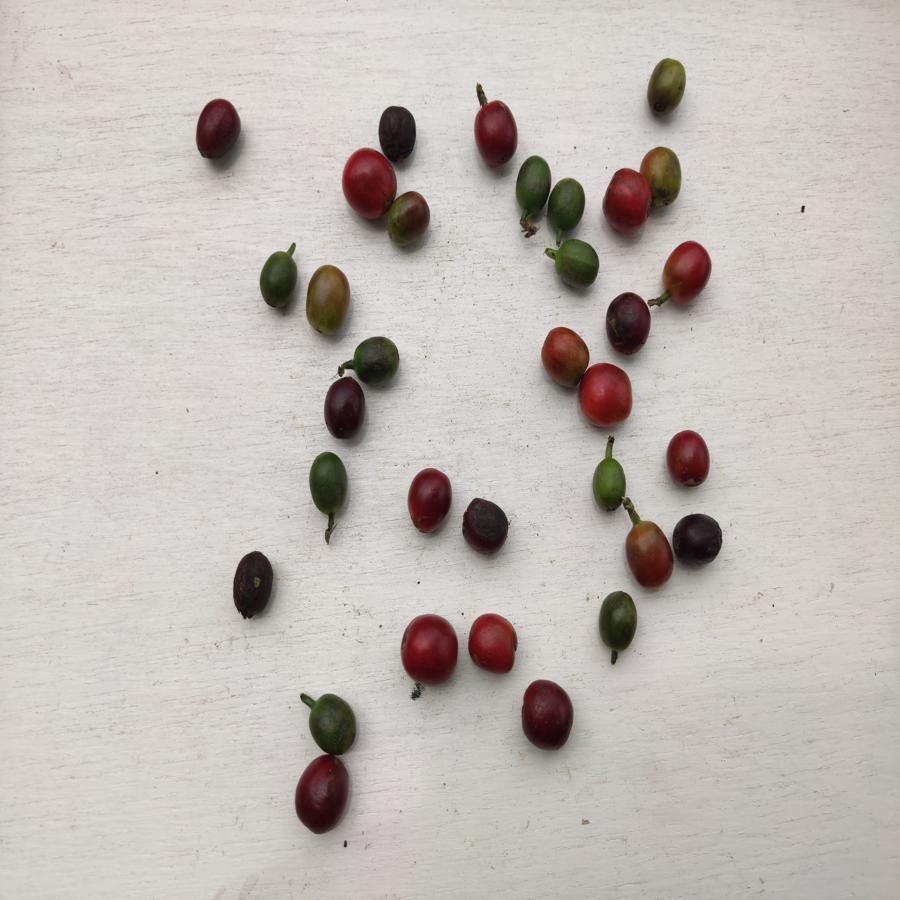Inmaduro: (305, 692, 359, 754), (548, 234, 601, 291), (307, 452, 354, 516), (598, 589, 639, 654), (351, 333, 401, 382), (590, 442, 624, 512), (258, 251, 297, 311), (547, 175, 586, 233), (513, 156, 549, 216)
Maduro: (398, 614, 462, 686), (660, 239, 718, 308), (578, 363, 636, 427), (341, 146, 388, 224), (468, 612, 519, 672), (601, 168, 645, 236), (665, 430, 711, 487)
Pinton: (535, 324, 584, 392), (303, 262, 347, 335), (624, 520, 669, 586), (642, 60, 689, 117), (387, 191, 430, 247), (643, 146, 683, 206)
Sobremaduro: (288, 756, 351, 838), (518, 676, 574, 752), (604, 293, 655, 356), (320, 377, 366, 444), (462, 497, 513, 557), (407, 468, 452, 536), (230, 551, 274, 618), (475, 99, 518, 167), (671, 512, 724, 566), (196, 97, 241, 160), (379, 105, 419, 162)
